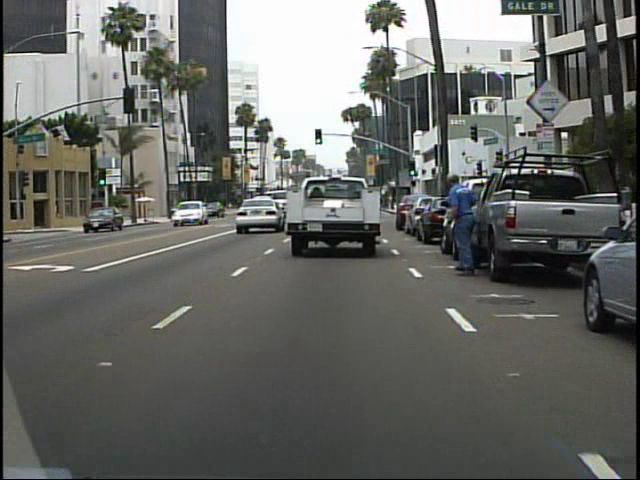person: (436, 171, 486, 280)
